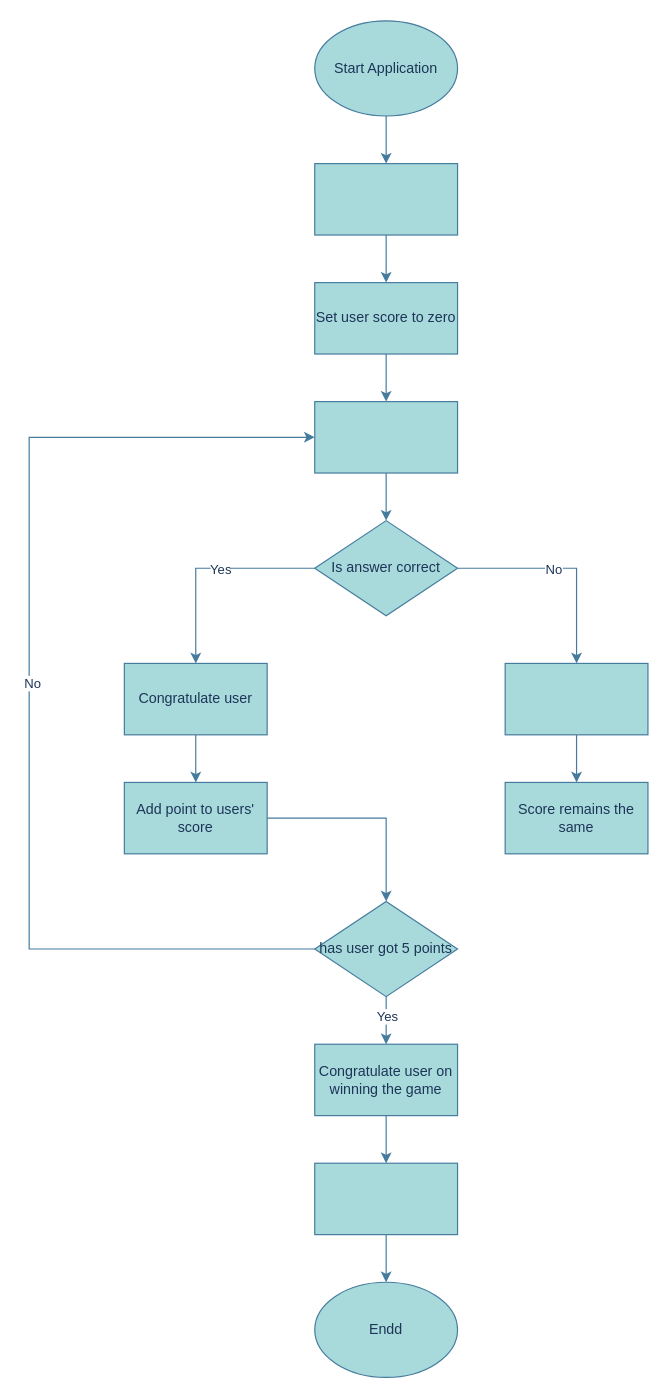
Image size: 669x1398. Some labels were removed from this diagram. The shapes that lost their labels are listed below. From the top down, each one's box as (x1, y1, x2, y2) in pixels, then its label:
(314, 162, 458, 235): Click here to start game
(314, 400, 458, 473): Ask next question
(504, 662, 648, 735): Tell the user its wrong
(314, 1162, 458, 1235): Display the game over view
